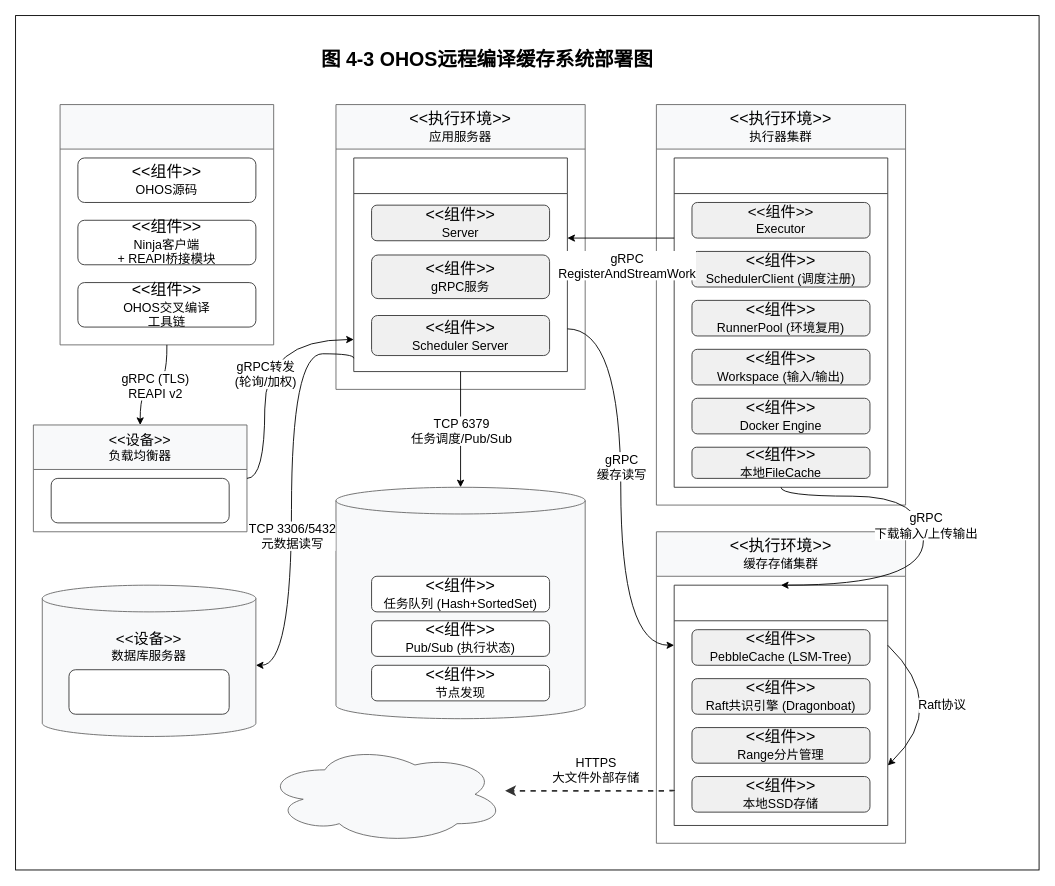
This 1055x886 diagram has some shape labels left out. Here are the shapes that lost their labels. From the top down, the box of each, then its label:
(59, 104, 274, 345): <<设备>> 开发者工作站
(353, 157, 567, 372): <<设备>> App Server
(673, 157, 888, 487): <<设备>> Executor #1..M
(50, 477, 229, 523): <<组件>> Nginx/HAProxy (gRPC反向代理)
(335, 486, 585, 719): <<设备>> Redis集群
(68, 669, 229, 714): <<组件>> MySQL (Invocations, Executions)
(673, 584, 888, 825): <<设备>> Cache Node #1..K
(264, 744, 505, 843): <<设备>> 云对象存储 (扩展)
